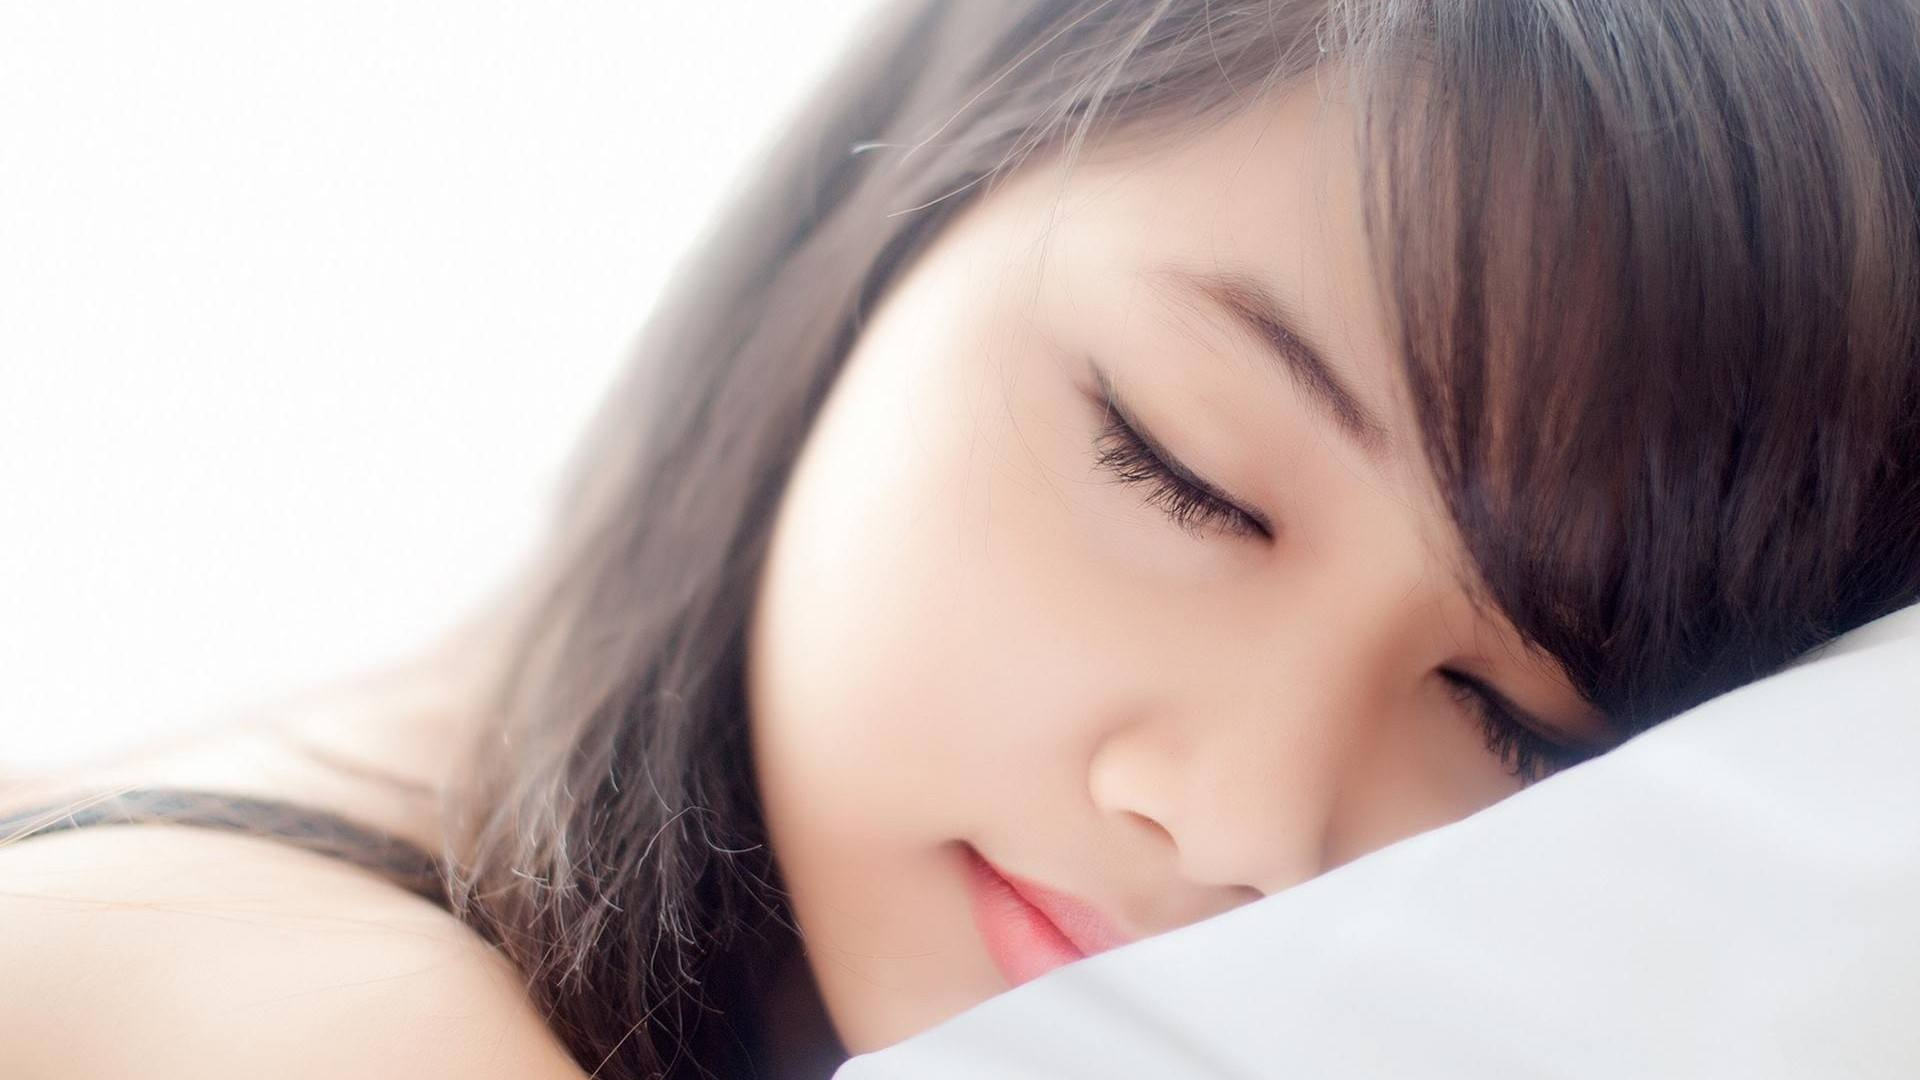person: (494, 21, 1915, 1060)
